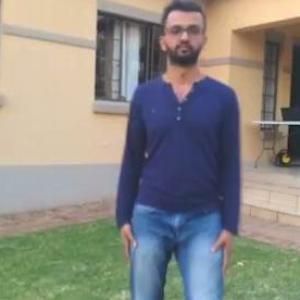follow: (110, 28, 211, 299)
